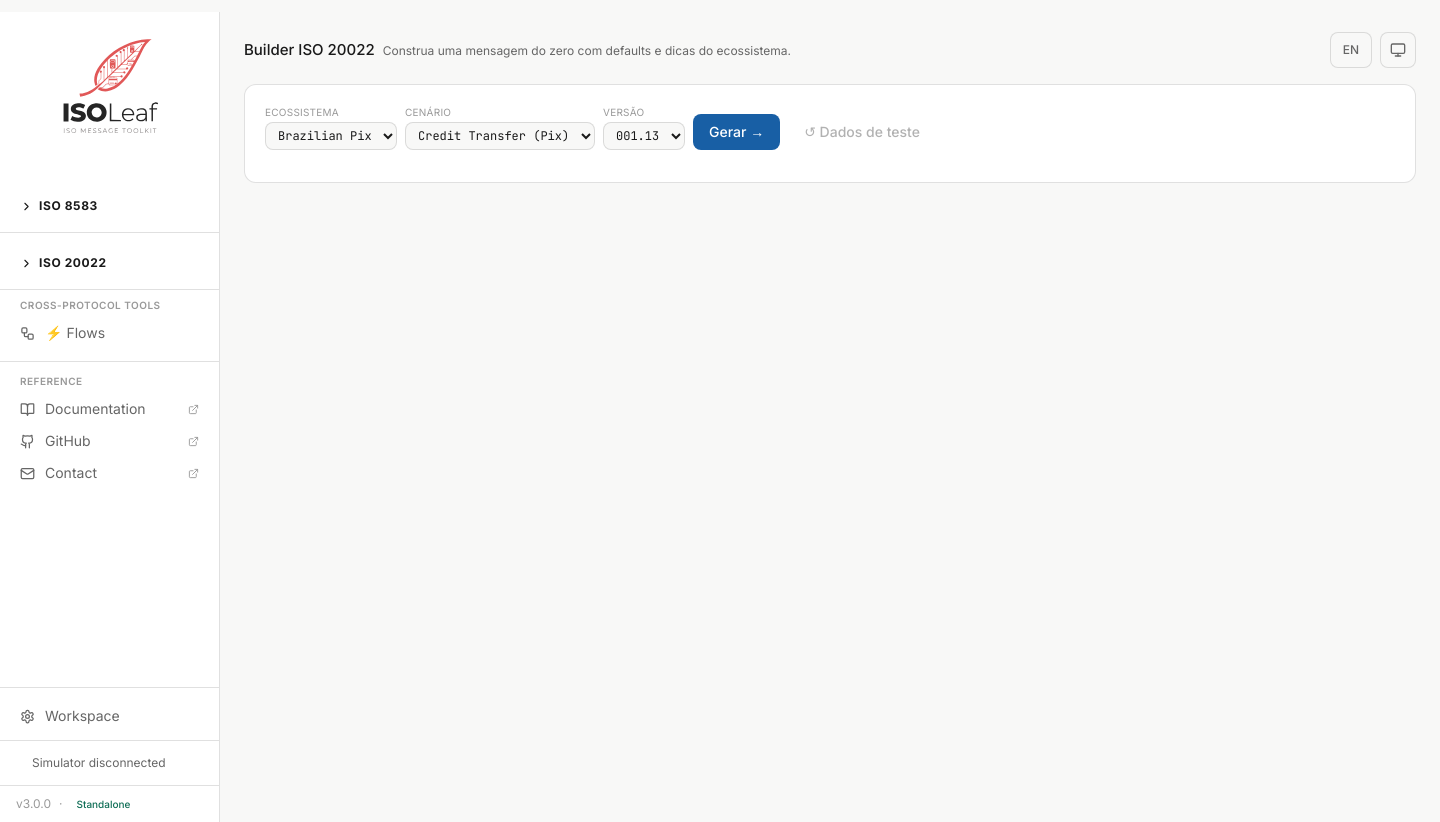
Test: Iso20022BuilderPage — mobile tabs (Sprint 9.7) › mounts the mobile tab bar once a build result is present
Click the button "Gerar →".
click(737, 132)  # box [693,114,780,150]
(page scrolled)
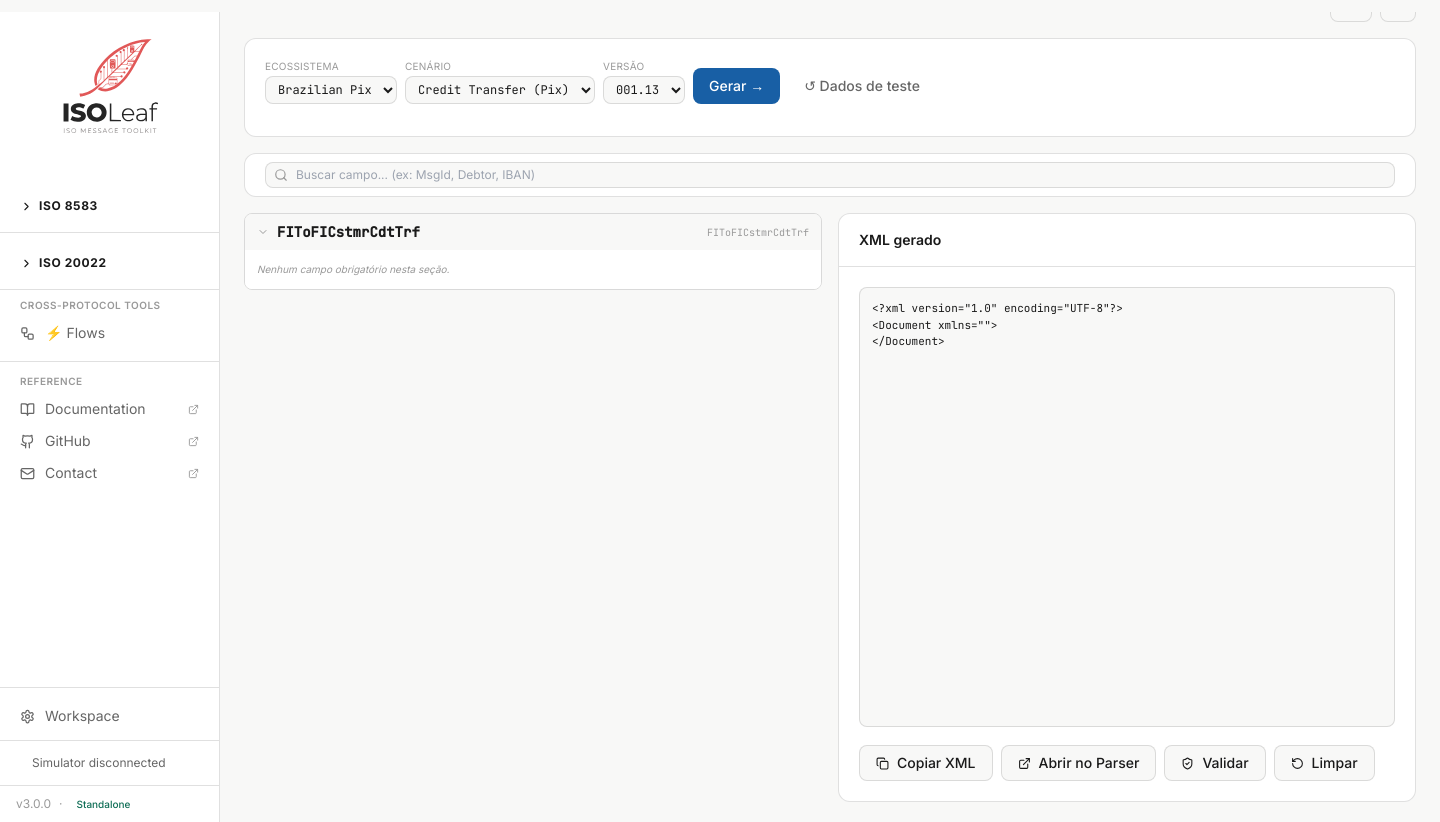
expect the element with test id "builder-result" is shown: met, box [244,213,1416,802]
